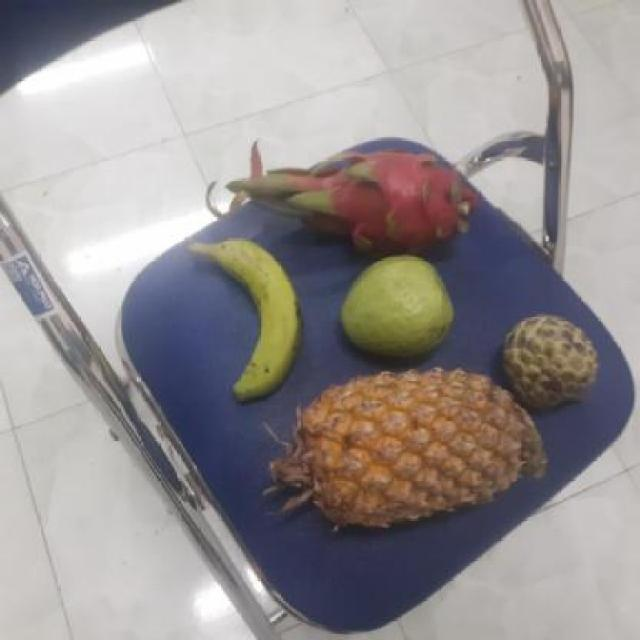banana: (195, 240, 302, 395)
dragon fruit: (305, 138, 467, 257)
guava: (335, 255, 456, 358)
pineapple: (275, 371, 541, 527)
sugar apple: (495, 315, 598, 413)
